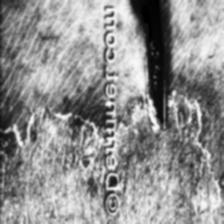Toxin: (0, 108, 103, 224)
